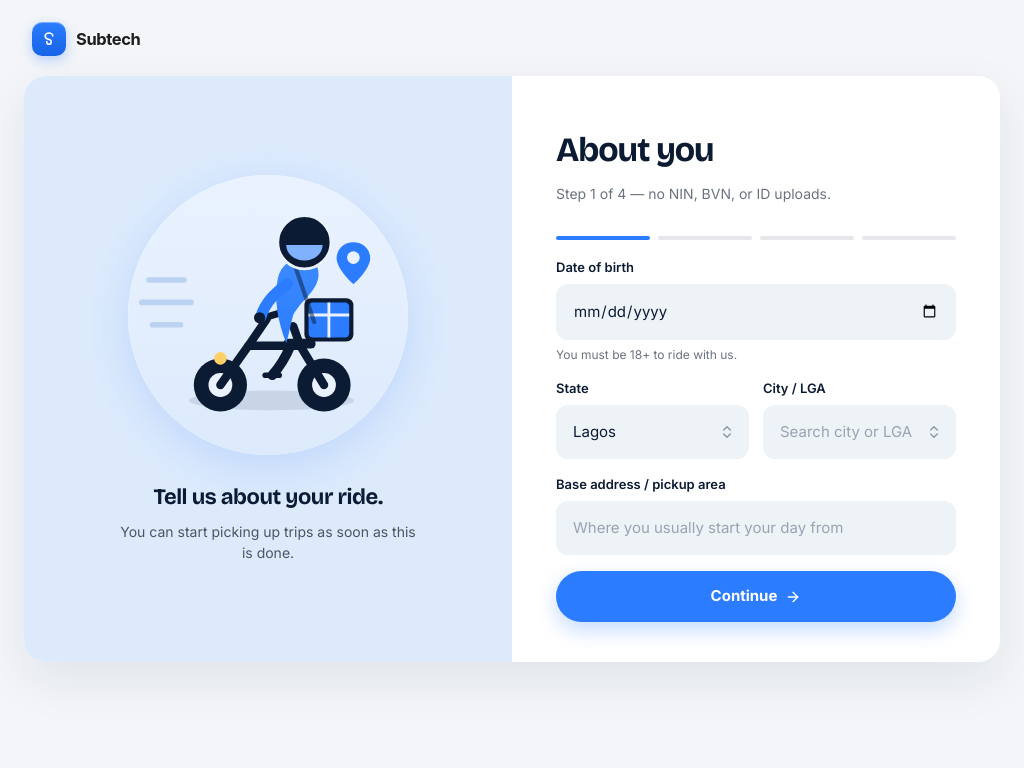
Scenario: Rider auth pages › loads cities for the selected state
Focus the dropdown labelled "City / LGA": (860, 432) [763,405,956,459]
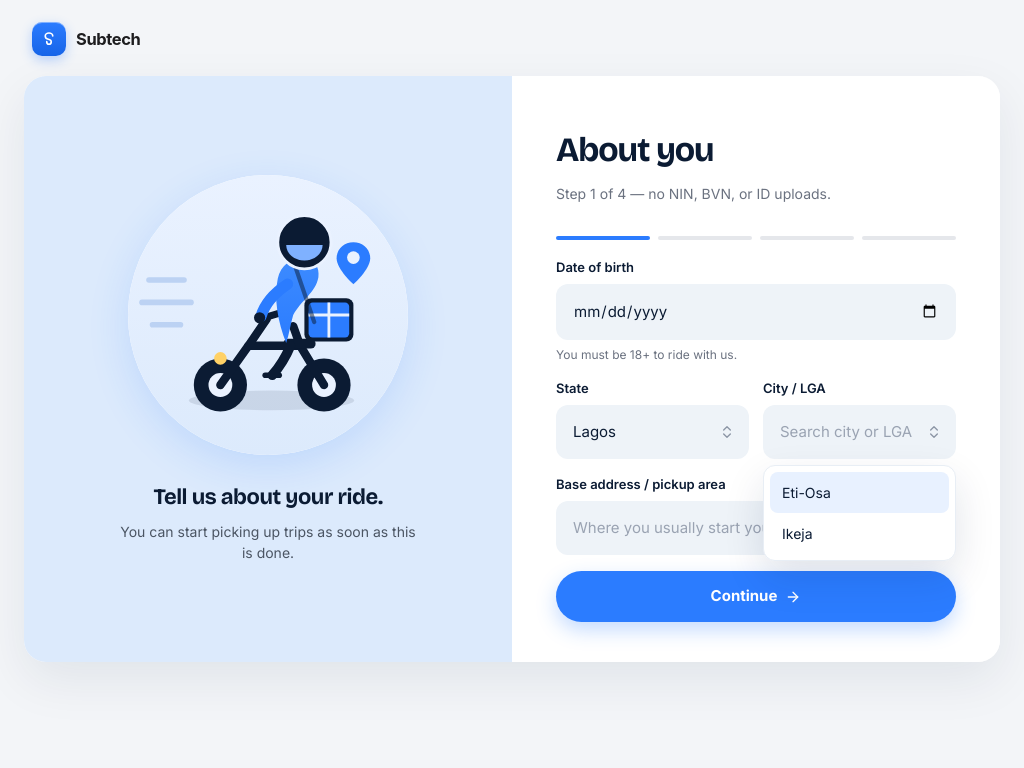
Expected: the option "Ikeja" is shown, [782,525,812,542]
